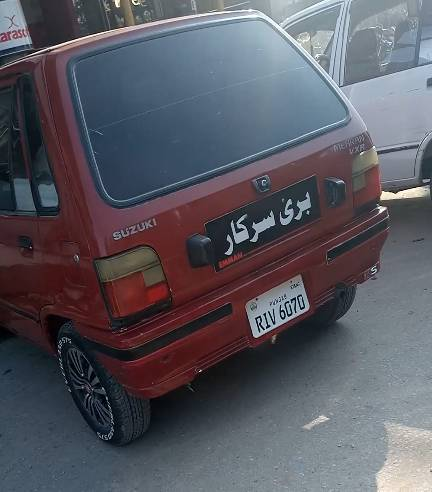number_plate: (247, 284, 318, 336)
